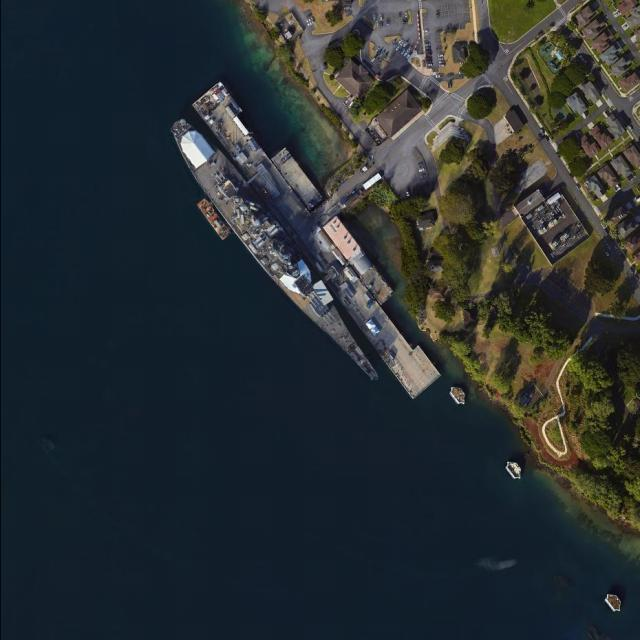Dock: (191, 85, 442, 397)
Landing: (195, 196, 233, 242)
Other Warship: (158, 110, 395, 391)
